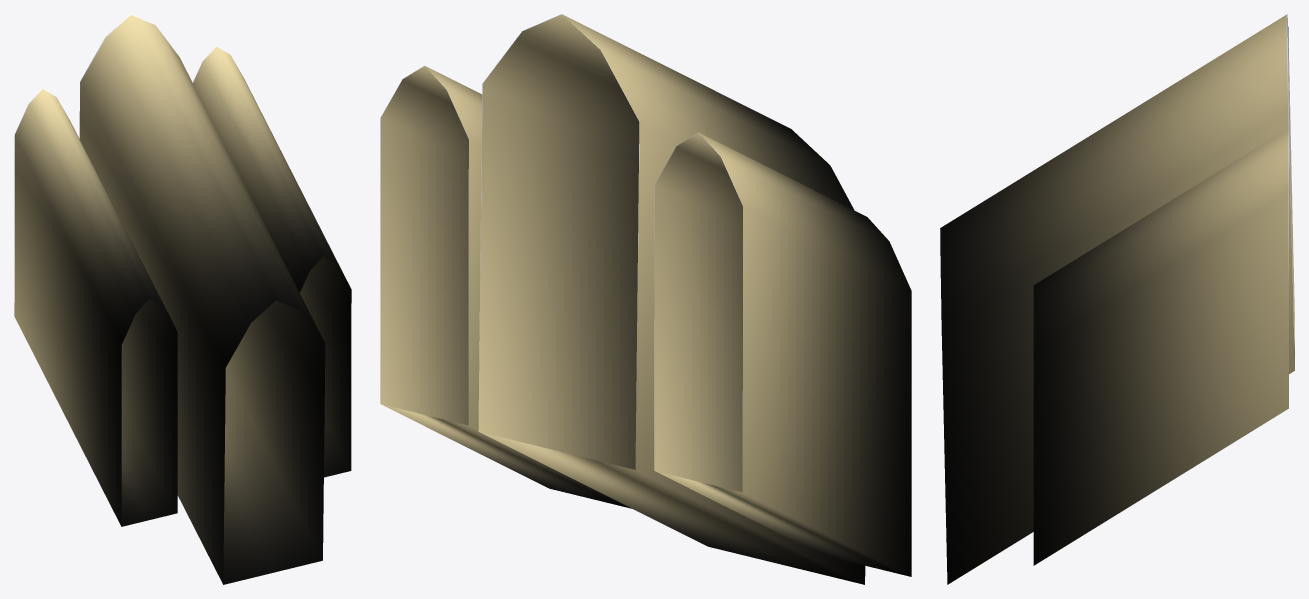
The model's file is Environment_RayofGOD_001_Mesh.fbx.
3 views of the same model, side by side, from view 1: azimuth 30°, elevation 25°; view 2: azimuth 150°, elevation 25°; view 3: azimuth 270°, elevation 25° (orthographic). The views are drawn at different scales.
Parts seen in each view (by area): view 1: pCube3, pCube2; view 2: pCube2, pCube3; view 3: pCube2, pCube3.
Boxes of the visible parts, left/top/right/bottom form: pCube3: left=79, top=14, right=325, bottom=584; pCube2: left=14, top=46, right=351, bottom=526; pCube2: left=380, top=65, right=911, bottom=576; pCube3: left=478, top=14, right=865, bottom=584; pCube2: left=1033, top=27, right=1288, bottom=565; pCube3: left=940, top=14, right=1294, bottom=584.
Size of the model in its own units: 1469 by 2775 by 1646.
